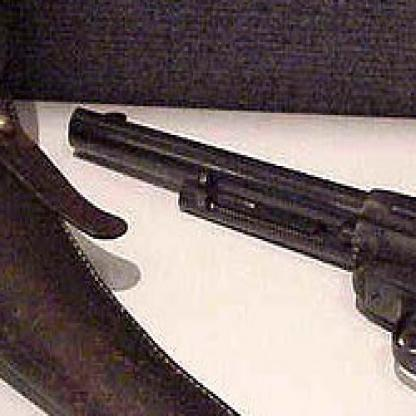gun: (70, 104, 414, 414)
